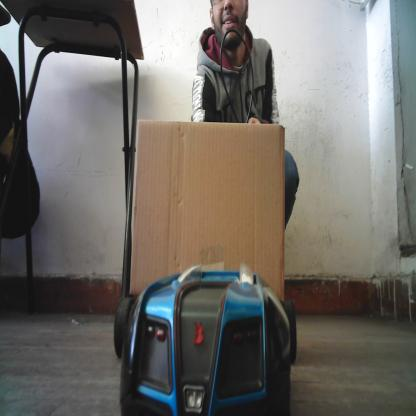LeadTruck: (112, 117, 300, 363)
